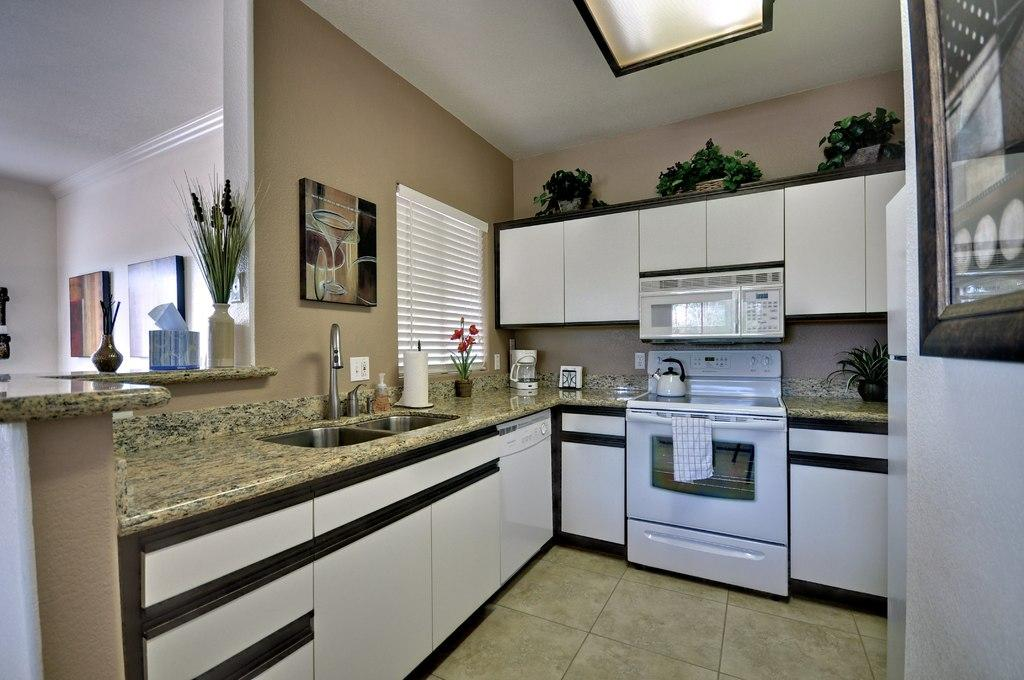cabinet_door: (322, 544, 434, 668), (800, 465, 894, 595), (786, 184, 870, 305), (145, 584, 311, 644), (137, 514, 317, 563), (438, 488, 504, 608), (494, 225, 566, 322), (564, 437, 626, 543), (568, 221, 638, 314), (864, 177, 906, 304), (708, 206, 786, 262), (311, 475, 428, 512), (638, 212, 712, 265), (223, 637, 313, 680), (790, 430, 892, 464), (425, 439, 500, 479), (559, 414, 627, 438)
handle: (142, 569, 312, 613), (324, 498, 428, 550), (206, 630, 312, 680), (646, 527, 760, 570), (634, 408, 780, 437), (796, 442, 897, 481), (433, 462, 504, 502), (569, 426, 623, 452)
